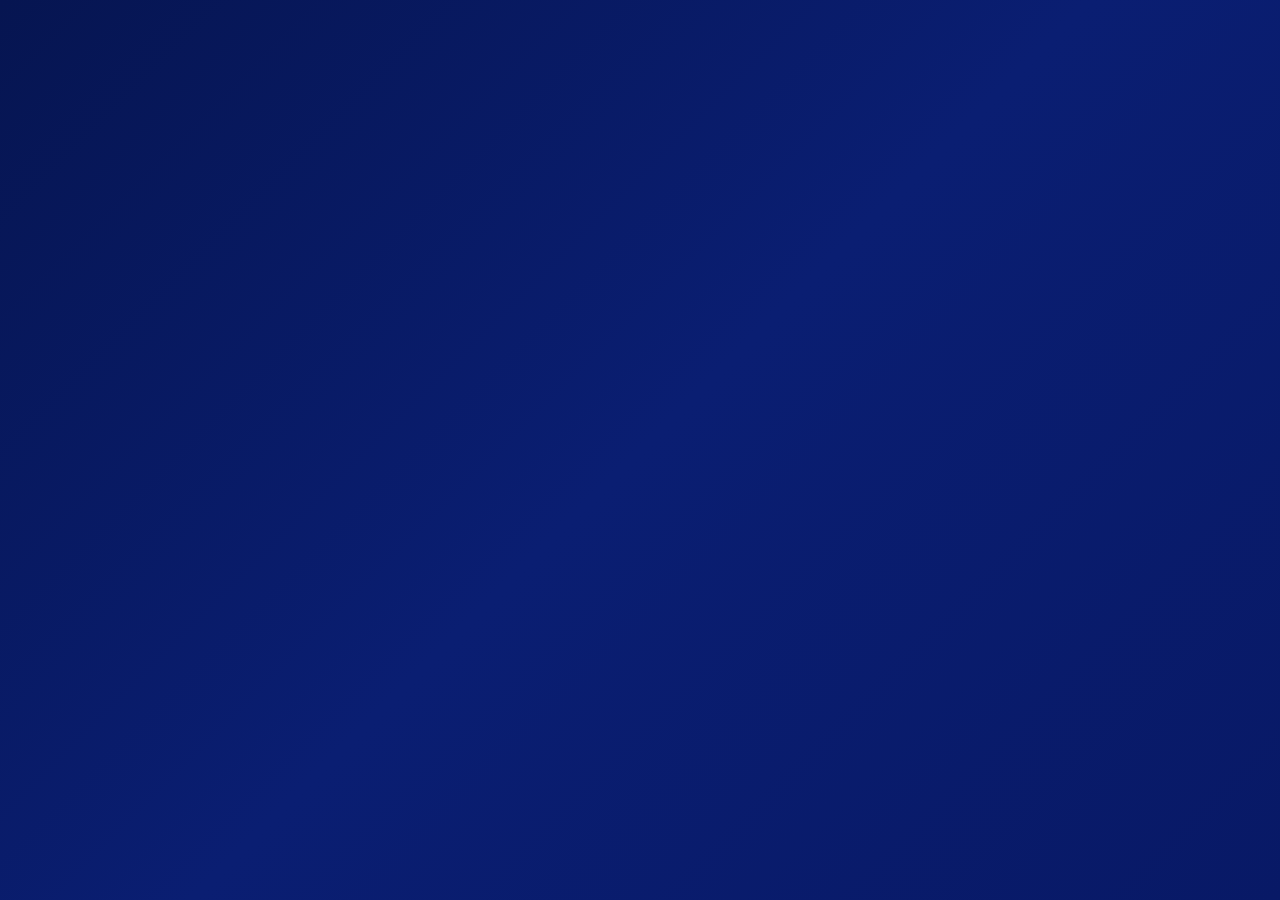
Test: CommandPalette — modes › '>' lists commands only and Enter runs the selected one
Press k
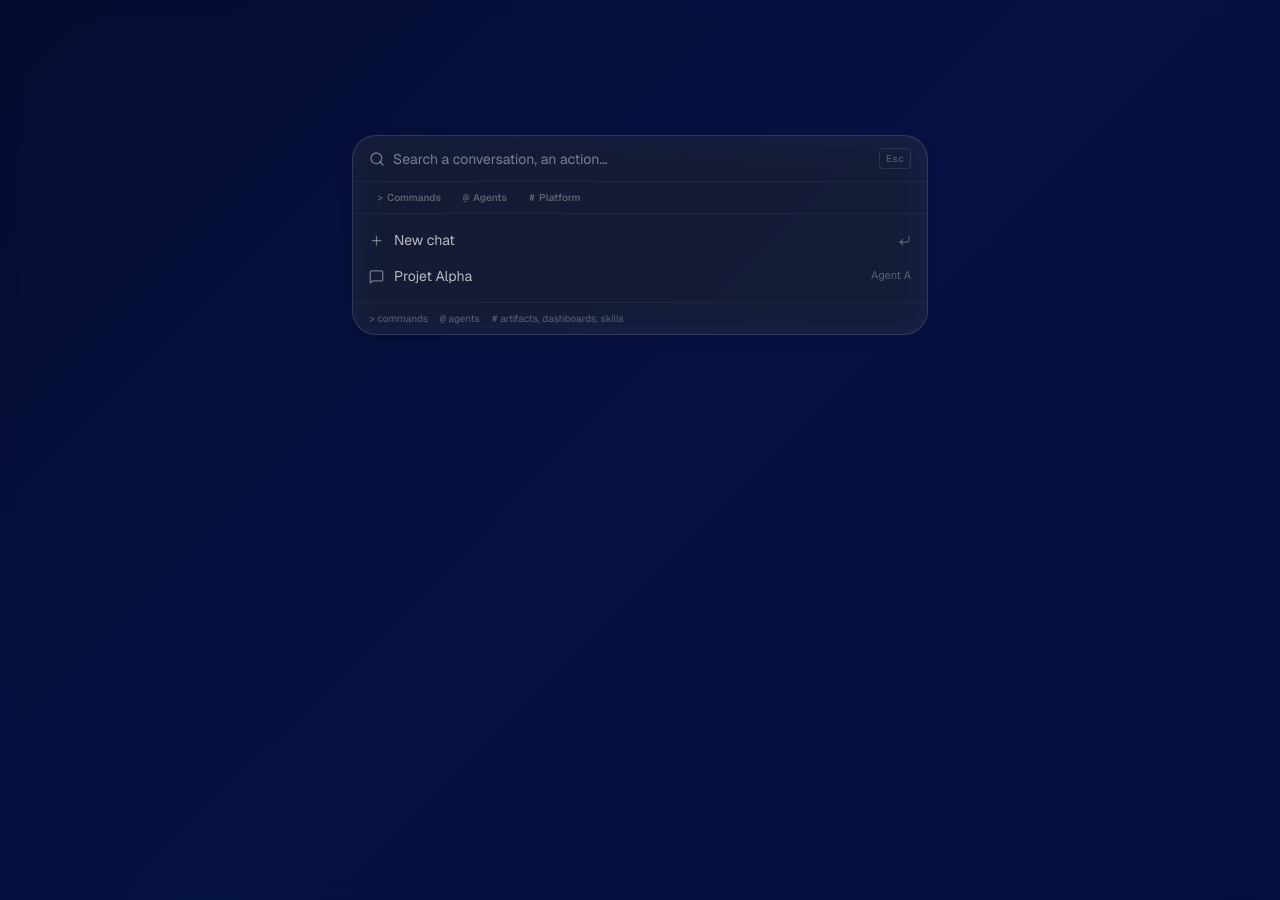
In the dropdown labelled "Search": (632, 158) left=393, top=148, right=871, bottom=168, type ">theme"
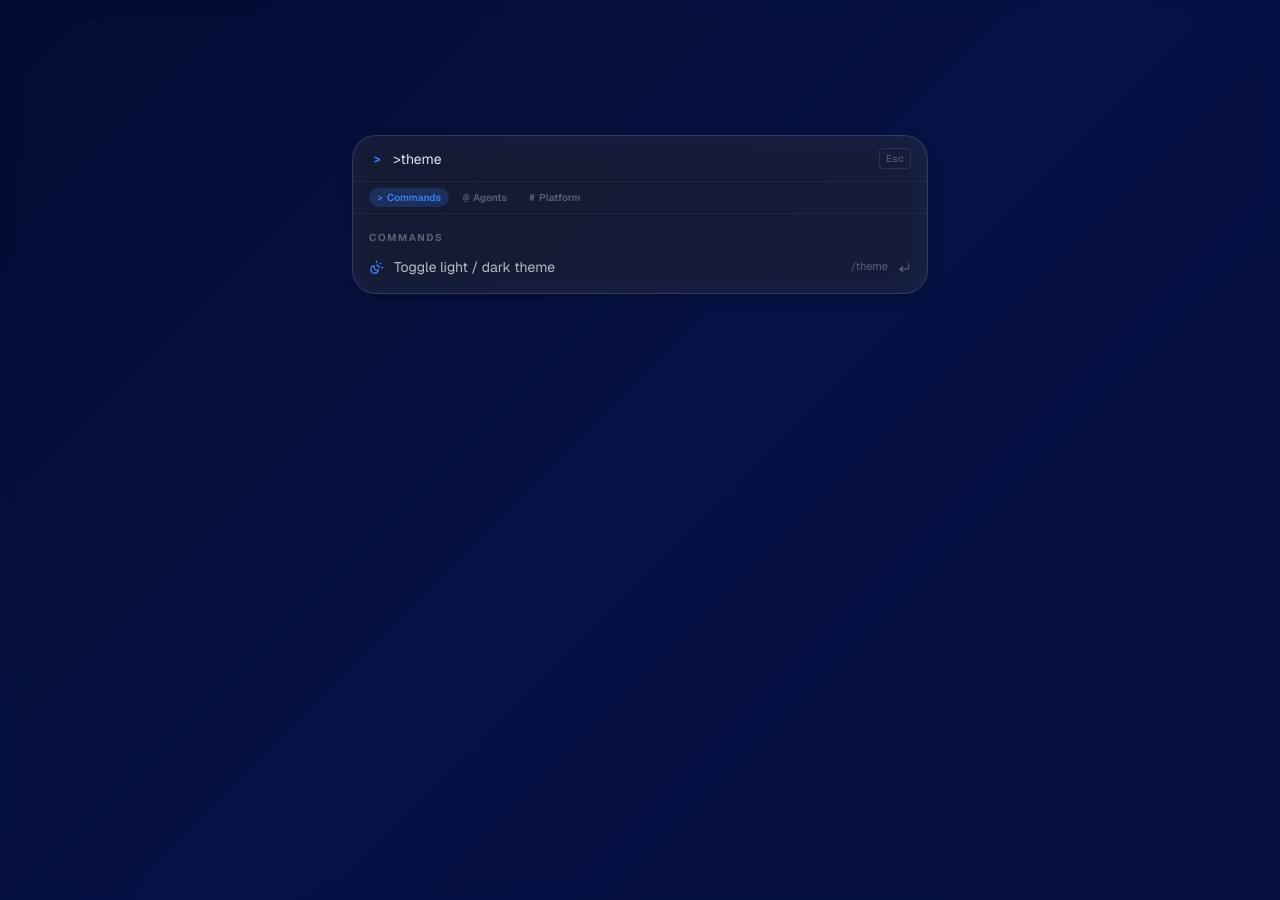
Result: the number of options is 1 at left=369, top=258, right=911, bottom=276
Result: the option shows "Toggle light / dark theme" at left=369, top=258, right=911, bottom=276
Result: the option "Projet Alpha" is gone
Press Enter in the dropdown named "Search", box left=393, top=148, right=871, bottom=168
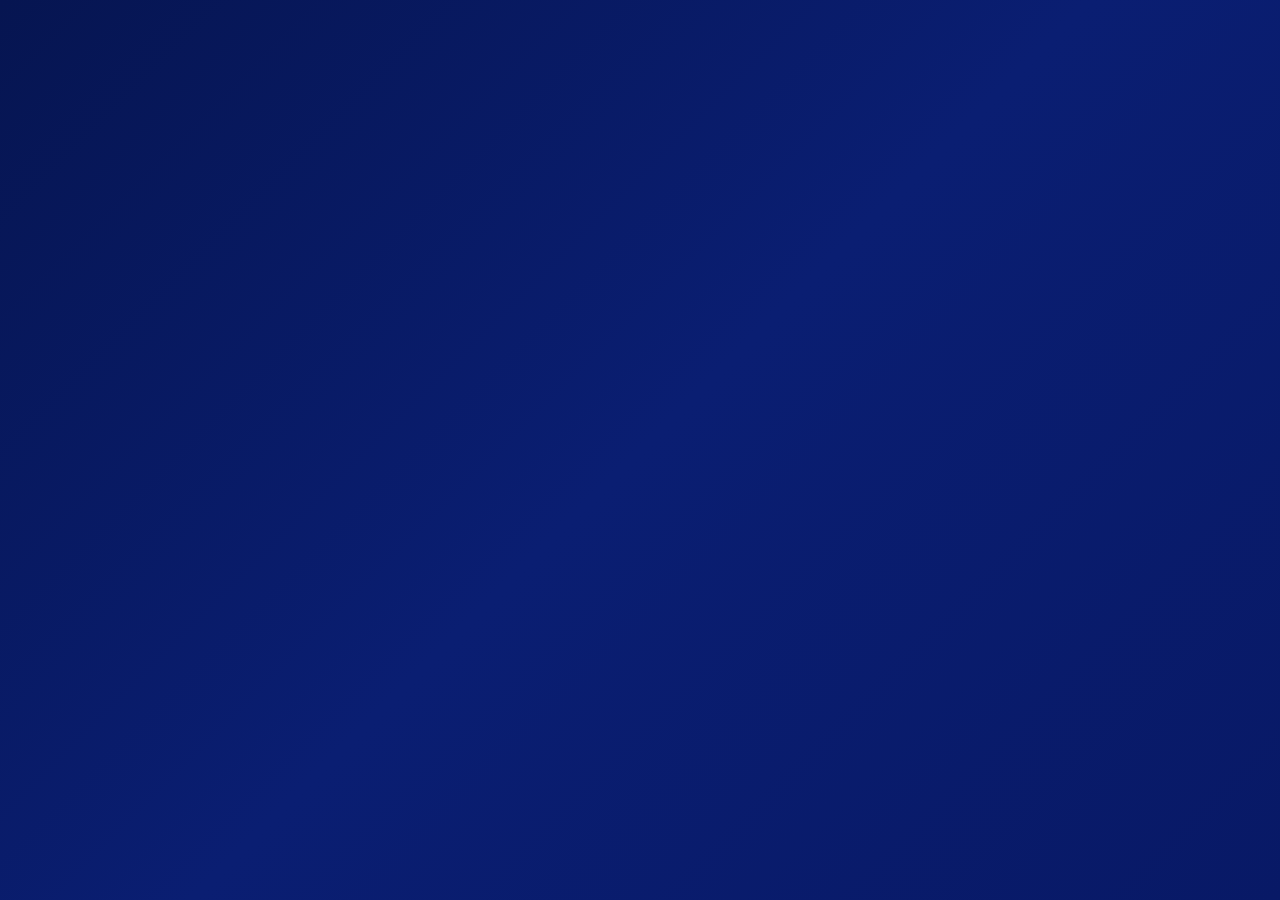
Result: the dialog is gone
